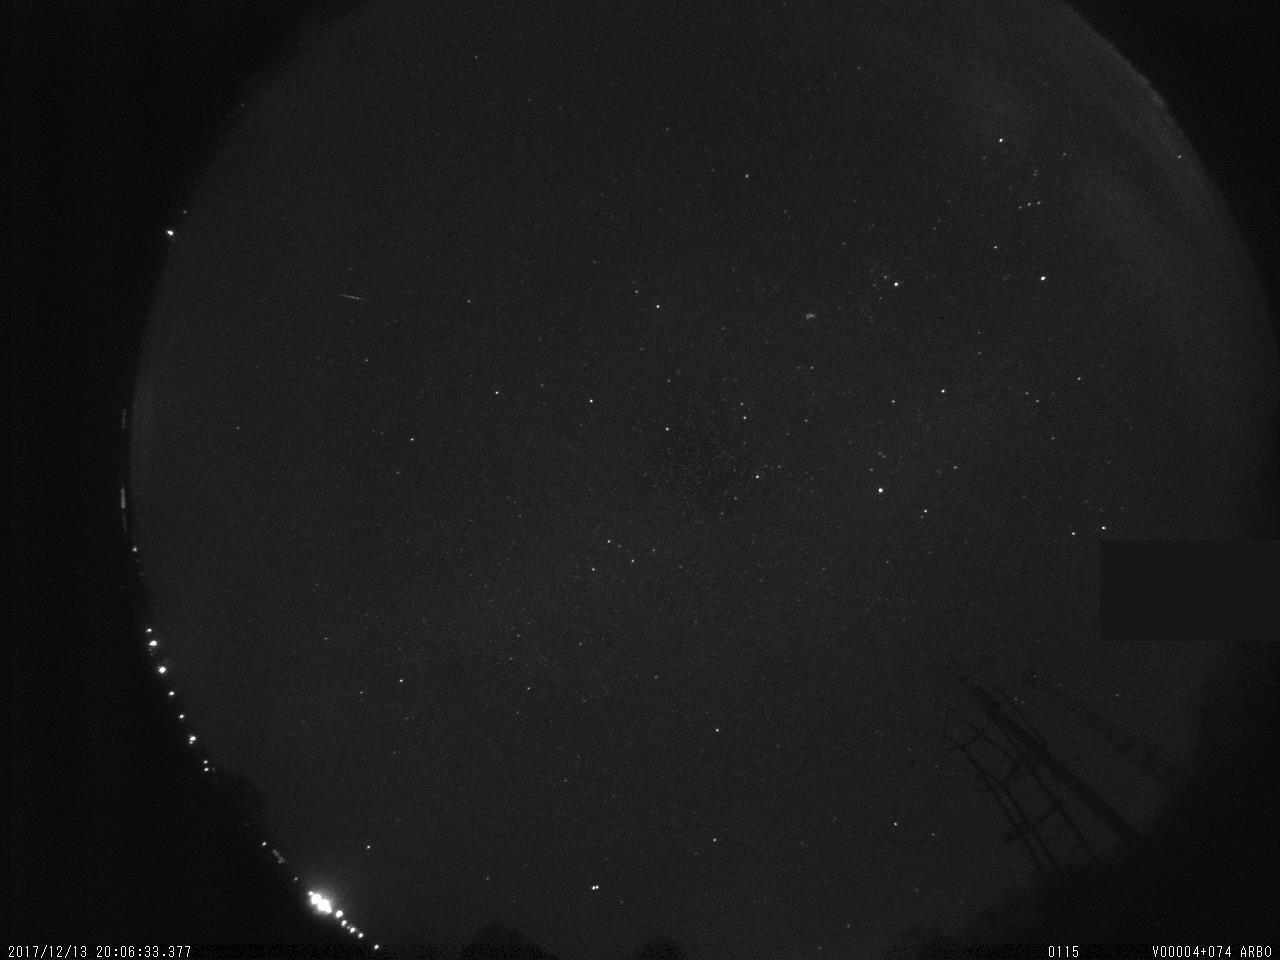Meteor: (334, 287, 372, 309)
